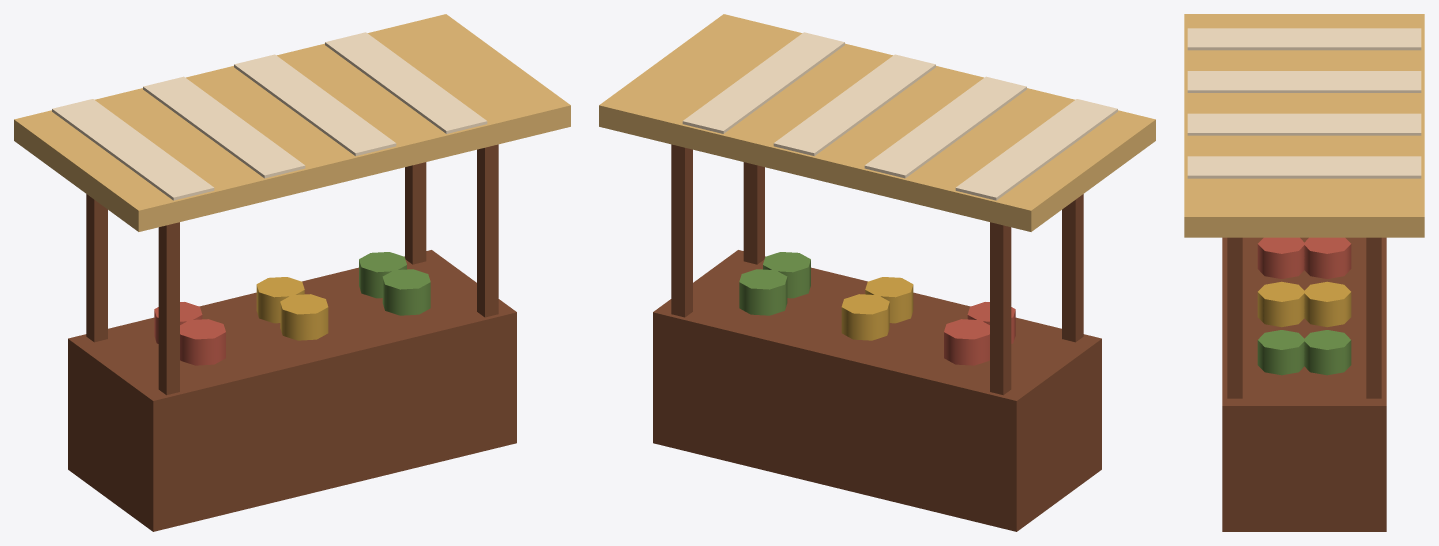
File: fruit_stall.glb
3 renders of one model, left to right at view 1: azimuth 30°, elevation 25°; view 2: azimuth 150°, elevation 25°; view 3: azimuth 270°, elevation 25°, orthographic. The views are drawn at different scales.
Visible parts, largest first — view 1: _MeshInstance3D_97, _MeshInstance3D_104, _MeshInstance3D_106, _MeshInstance3D_107, _MeshInstance3D_105, _MeshInstance3D_108, _MeshInstance3D_103, _MeshInstance3D_101, _MeshInstance3D_100, _MeshInstance3D_102, _MeshInstance3D_112, _MeshInstance3D_114 (+3 smaller); view 2: _MeshInstance3D_97, _MeshInstance3D_104, _MeshInstance3D_106, _MeshInstance3D_107, _MeshInstance3D_105, _MeshInstance3D_108, _MeshInstance3D_102, _MeshInstance3D_100, _MeshInstance3D_101, _MeshInstance3D_103, _MeshInstance3D_111, _MeshInstance3D_113 (+3 smaller); view 3: _MeshInstance3D_104, _MeshInstance3D_97, _MeshInstance3D_108, _MeshInstance3D_105, _MeshInstance3D_107, _MeshInstance3D_106, _MeshInstance3D_102, _MeshInstance3D_103, _MeshInstance3D_113, _MeshInstance3D_111, _MeshInstance3D_114, _MeshInstance3D_112 (+2 smaller).
Part boxes in pixels (x1,y1,x2,y2): _MeshInstance3D_97: [68, 250, 516, 531]; _MeshInstance3D_104: [14, 14, 570, 231]; _MeshInstance3D_106: [143, 76, 305, 178]; _MeshInstance3D_107: [234, 54, 396, 156]; _MeshInstance3D_105: [52, 99, 214, 200]; _MeshInstance3D_108: [325, 32, 487, 133]; _MeshInstance3D_103: [477, 144, 498, 317]; _MeshInstance3D_101: [158, 222, 179, 395]; _MeshInstance3D_100: [86, 194, 107, 342]; _MeshInstance3D_102: [405, 162, 426, 264]; _MeshInstance3D_112: [280, 294, 328, 340]; _MeshInstance3D_114: [382, 269, 430, 315]; _MeshInstance3D_97: [653, 250, 1101, 531]; _MeshInstance3D_104: [599, 14, 1155, 231]; _MeshInstance3D_106: [864, 76, 1026, 178]; _MeshInstance3D_107: [773, 54, 935, 156]; _MeshInstance3D_105: [955, 99, 1117, 200]; _MeshInstance3D_108: [682, 32, 844, 133]; _MeshInstance3D_102: [671, 144, 692, 317]; _MeshInstance3D_100: [990, 222, 1011, 395]; _MeshInstance3D_101: [1062, 194, 1083, 342]; _MeshInstance3D_103: [743, 162, 764, 264]; _MeshInstance3D_111: [841, 294, 889, 340]; _MeshInstance3D_113: [739, 269, 787, 315]; _MeshInstance3D_104: [1184, 14, 1424, 237]; _MeshInstance3D_97: [1222, 237, 1386, 531]; _MeshInstance3D_108: [1187, 156, 1421, 178]; _MeshInstance3D_105: [1187, 28, 1421, 50]; _MeshInstance3D_107: [1187, 113, 1421, 135]; _MeshInstance3D_106: [1187, 71, 1421, 92]; _MeshInstance3D_102: [1366, 237, 1381, 398]; _MeshInstance3D_103: [1227, 237, 1242, 398]; _MeshInstance3D_113: [1303, 330, 1351, 375]; _MeshInstance3D_111: [1303, 281, 1351, 327]; _MeshInstance3D_114: [1257, 330, 1304, 375]; _MeshInstance3D_112: [1257, 281, 1304, 327].
Size of the model in its own units: 3.8 by 2.92 by 1.9.
